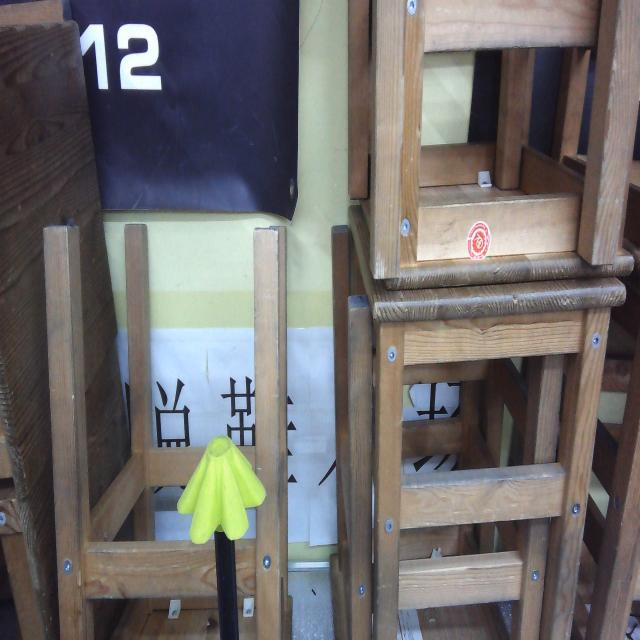Yellow-Stake-Head: (177, 435, 266, 544)
